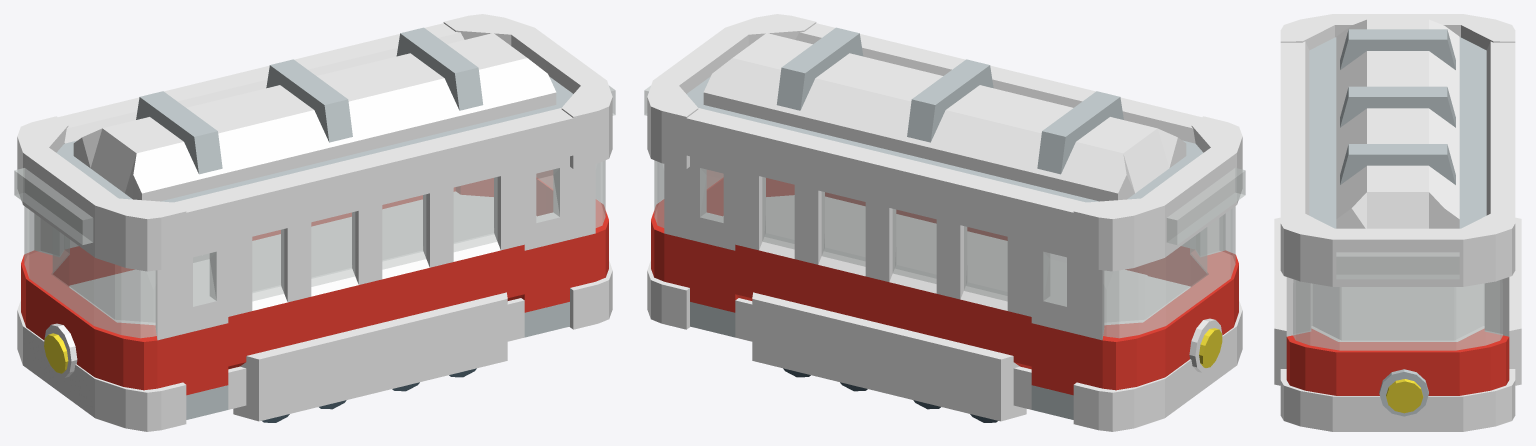
Rendered from group481478884_lev3.glb.
3 views of the same model, side by side, from view 1: azimuth 30°, elevation 25°; view 2: azimuth 150°, elevation 25°; view 3: azimuth 270°, elevation 25° (orthographic). The views are drawn at different scales.
Visible parts, largest first — view 1: group481478884_lev3; view 2: group481478884_lev3; view 3: group481478884_lev3.
Part boxes in pixels (bbox=[...]): group481478884_lev3: bbox=[14, 14, 615, 431]; group481478884_lev3: bbox=[644, 14, 1245, 431]; group481478884_lev3: bbox=[1274, 14, 1521, 431].
Size of the model in its own units: 3.97 by 1.94 by 1.77.
